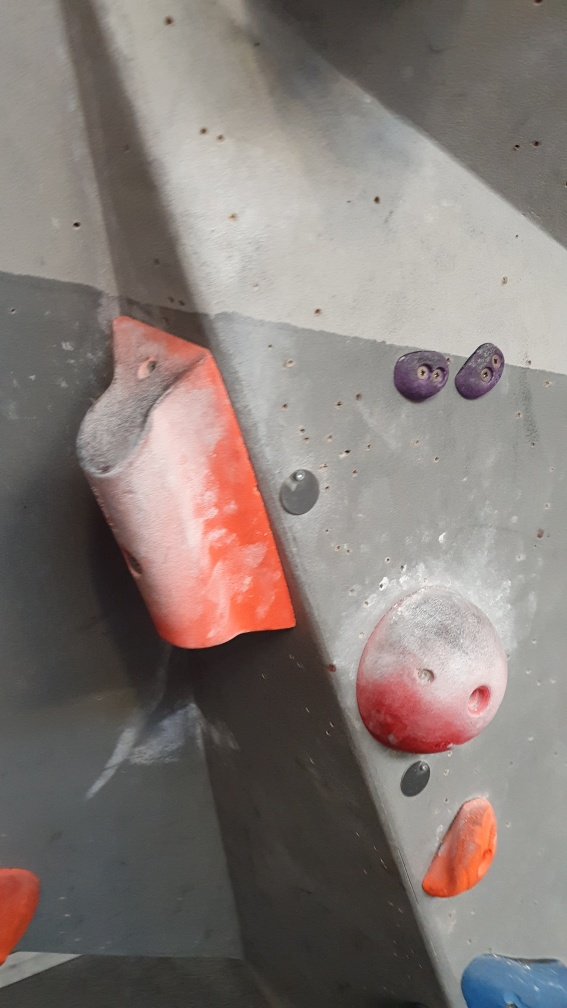Hand Start: (276, 469, 327, 522), (398, 756, 433, 799)
Pinch: (72, 315, 300, 662)
Sloper: (352, 578, 515, 761)
